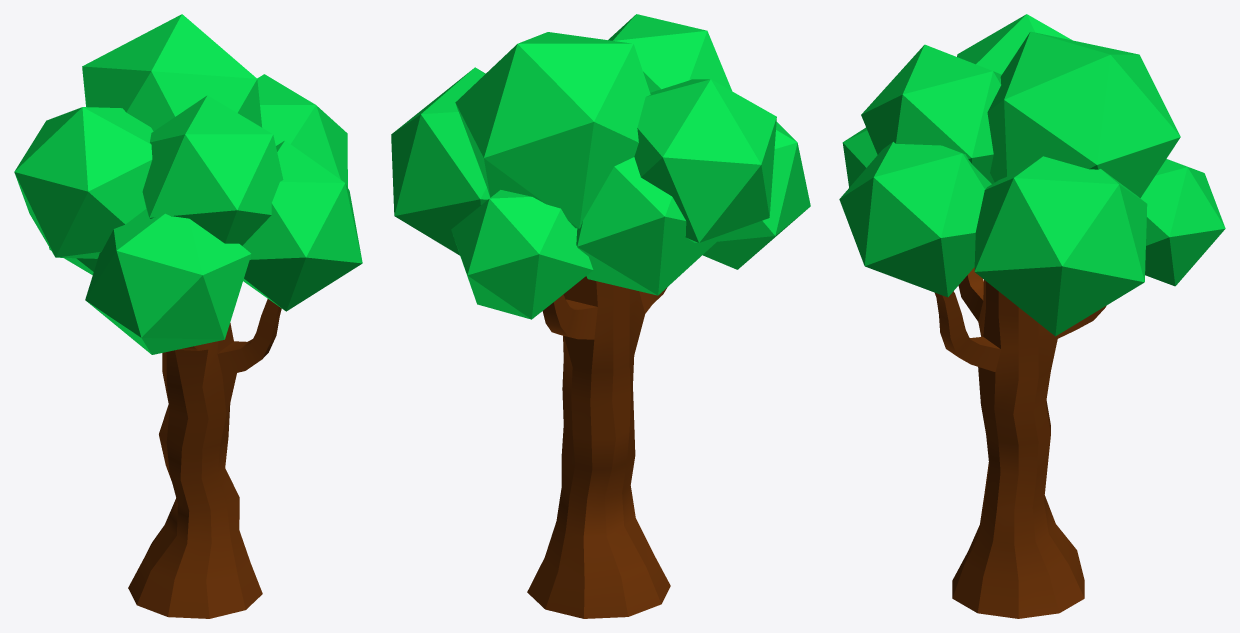
File: Tree.fbx
3 views of the same model, side by side, from view 1: azimuth 30°, elevation 25°; view 2: azimuth 150°, elevation 25°; view 3: azimuth 270°, elevation 25° (orthographic). The views are drawn at different scales.
Visible parts, largest first — view 1: curve5; view 2: curve5; view 3: curve5.
Part boxes in pixels (x1=…): curve5: x1=14, y1=14, x2=362, y2=618; curve5: x1=391, y1=14, x2=810, y2=618; curve5: x1=839, y1=14, x2=1225, y2=618.
Size of the model in its own units: 0.0435 by 0.0655 by 0.0416.
